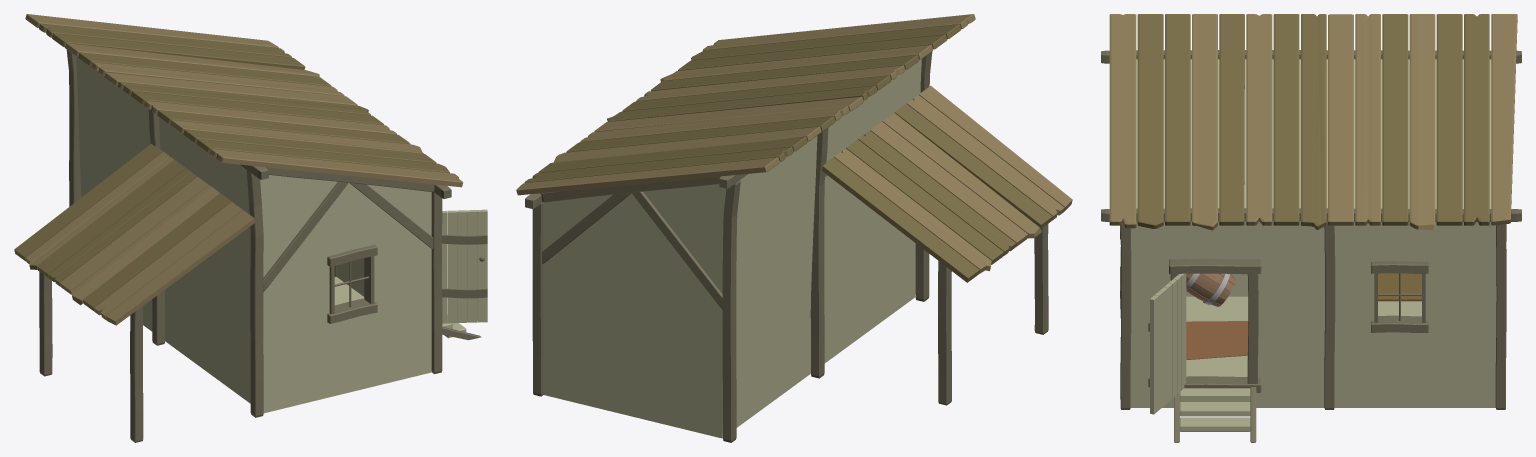
File: House2.AckSonHali.fbx
3 views of the same model, side by side, from view 1: azimuth 30°, elevation 25°; view 2: azimuth 150°, elevation 25°; view 3: azimuth 270°, elevation 25° (orthographic). The views are drawn at different scales.
Visible parts, largest first — view 1: Cube.003; view 2: Cube.003; view 3: Cube.003, Cube.004, Circle.006, Plane.012.
Part boxes in pixels (x1=…): Cube.003: x1=14, y1=14, x2=487, y2=442; Cube.003: x1=516, y1=14, x2=1072, y2=442; Cube.003: x1=1101, y1=14, x2=1521, y2=442; Cube.004: x1=1186, y1=321, x2=1248, y2=359; Circle.006: x1=1186, y1=273, x2=1235, y2=306; Plane.012: x1=1378, y1=273, x2=1421, y2=301.
Size of the model in its own units: 1146 by 759 by 1023.
